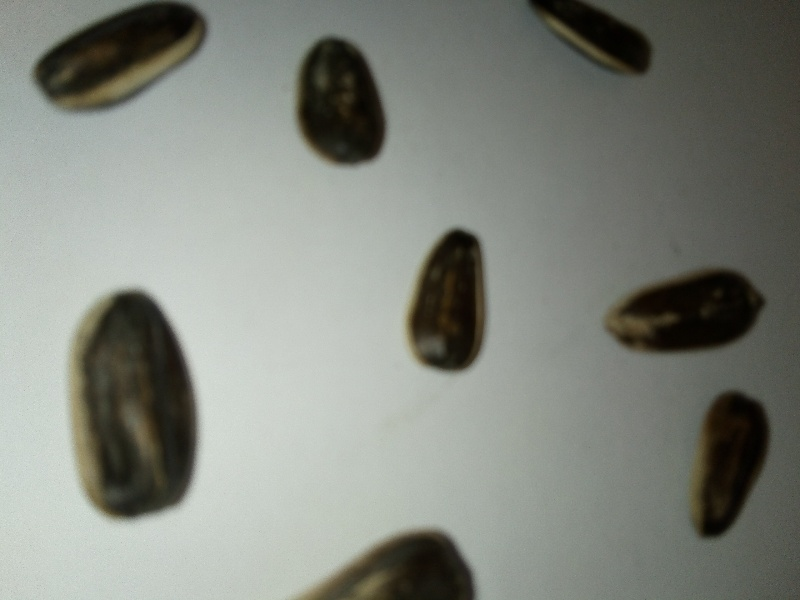w: (46, 281, 217, 529), (600, 251, 772, 371), (395, 226, 507, 384), (682, 382, 775, 548)
